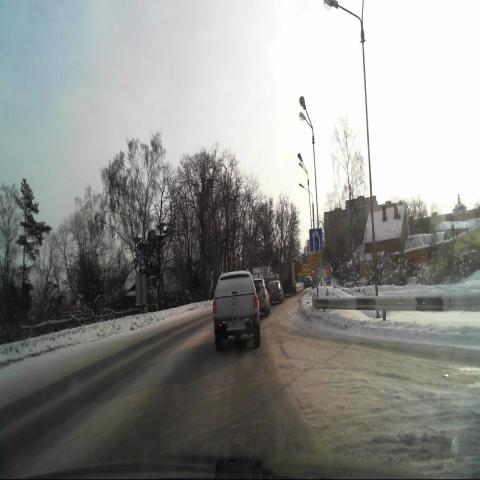5_15_5: (309, 228, 323, 253)
